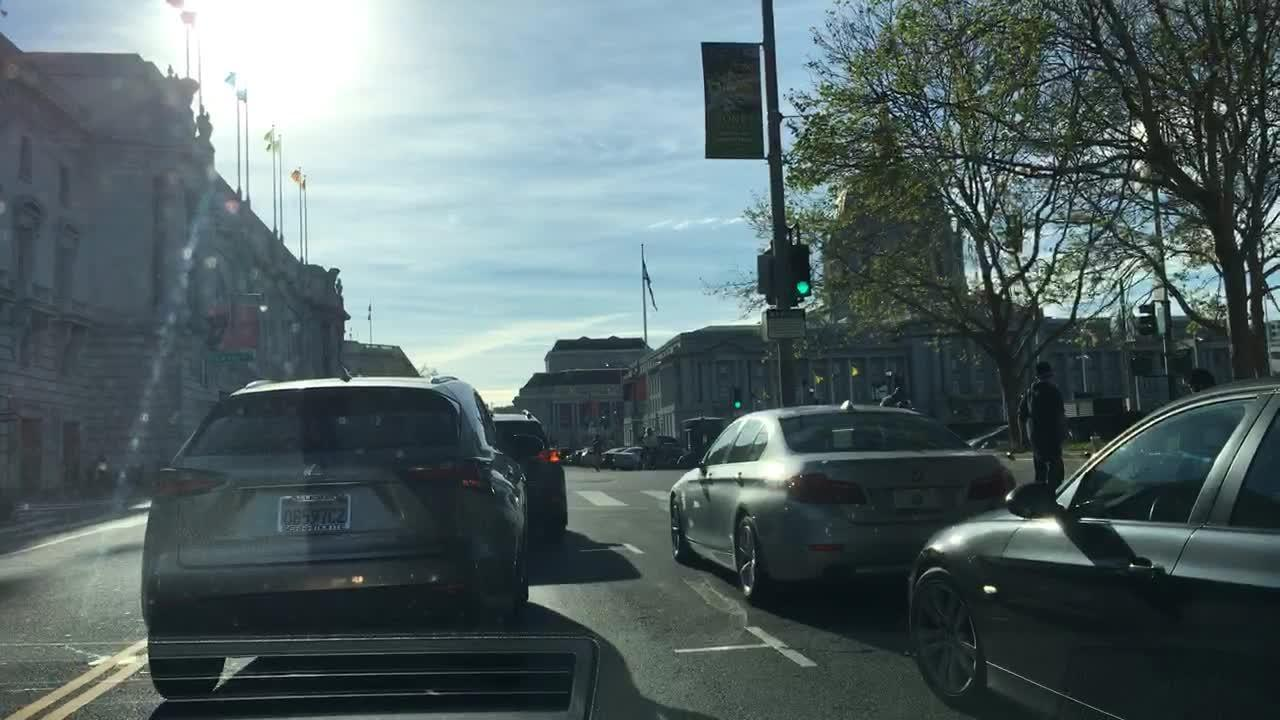bmw: (902, 465, 930, 488)
lexus: (292, 458, 334, 487)
